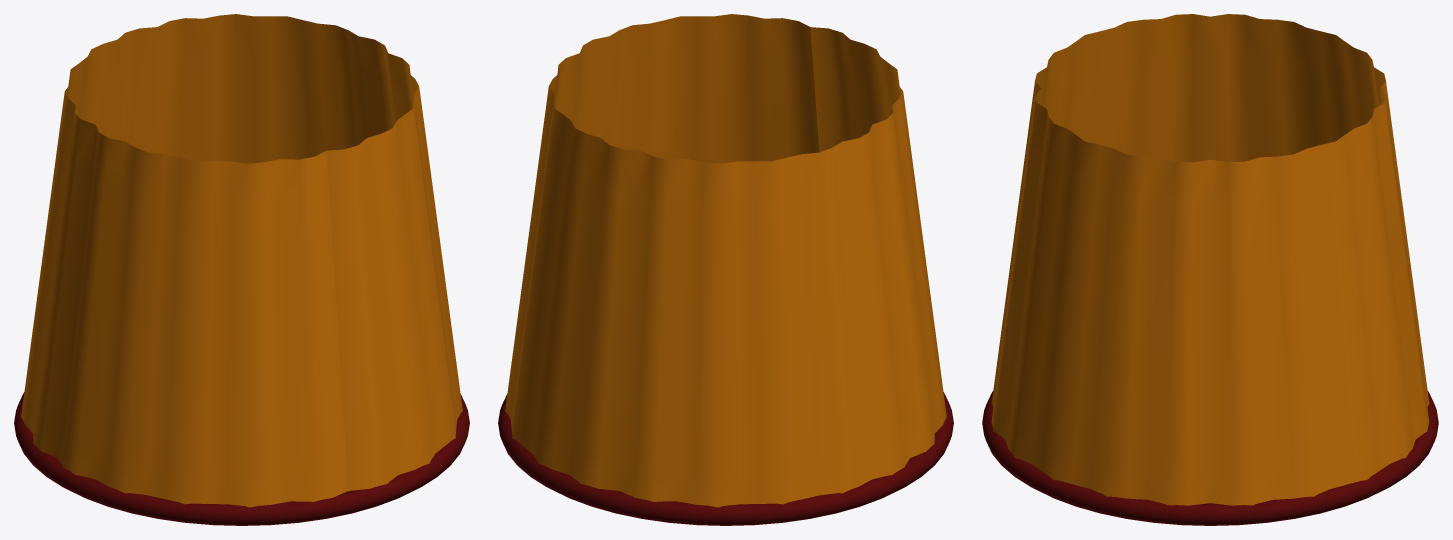
The model's file is dhoti-pitambar.glb.
The picture shows the model from 3 angles, left to right: view 1: azimuth 30°, elevation 25°; view 2: azimuth 150°, elevation 25°; view 3: azimuth 270°, elevation 25°; orthographic projection.
Visible parts, largest first — view 1: cloth, border; view 2: cloth, border; view 3: cloth, border.
Part boxes in pixels (x1,y1,x2,y2): cloth: (21, 14, 462, 507); border: (14, 392, 469, 525); cloth: (505, 14, 946, 507); border: (498, 392, 953, 525); cloth: (991, 14, 1429, 505); border: (982, 391, 1438, 525).
Bounding box in the file's own units: 0.958 × 0.7978 × 0.958.
